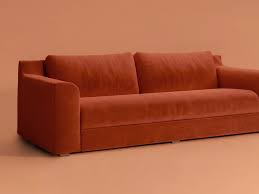couch: (10, 32, 259, 163)
